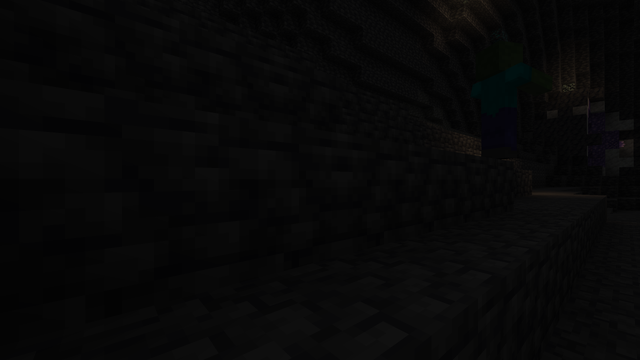zombies: (473, 39, 522, 159)
